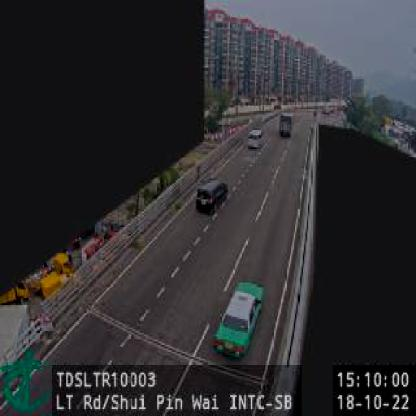Car: (210, 279, 266, 359), (195, 178, 230, 214), (247, 127, 265, 149)
Truck: (279, 110, 295, 136)
